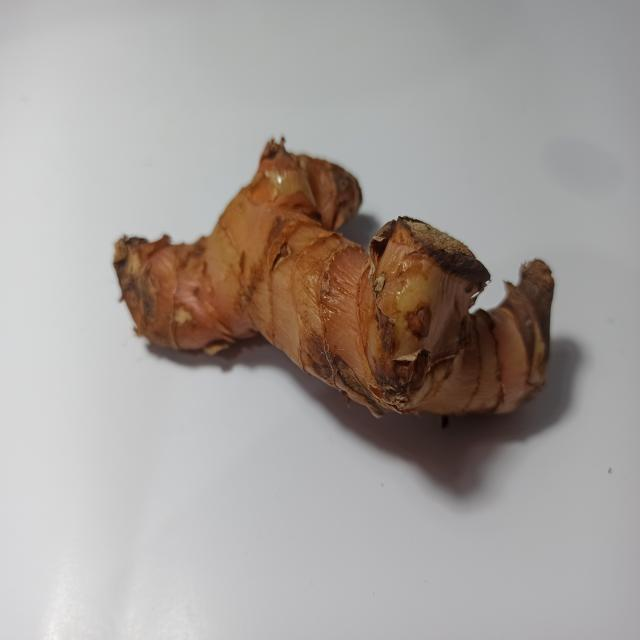ginger: (110, 138, 556, 422)
